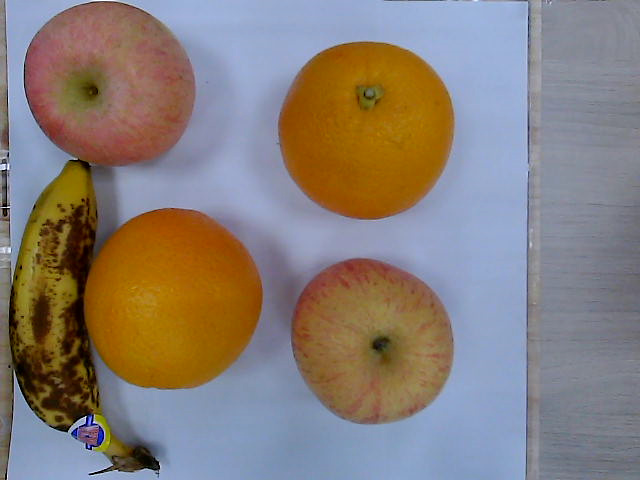fresh_apple: (24, 1, 195, 167), (288, 257, 452, 424)
fresh_orange: (84, 208, 264, 390), (279, 43, 455, 219)
rotten_banana: (9, 163, 166, 472)
